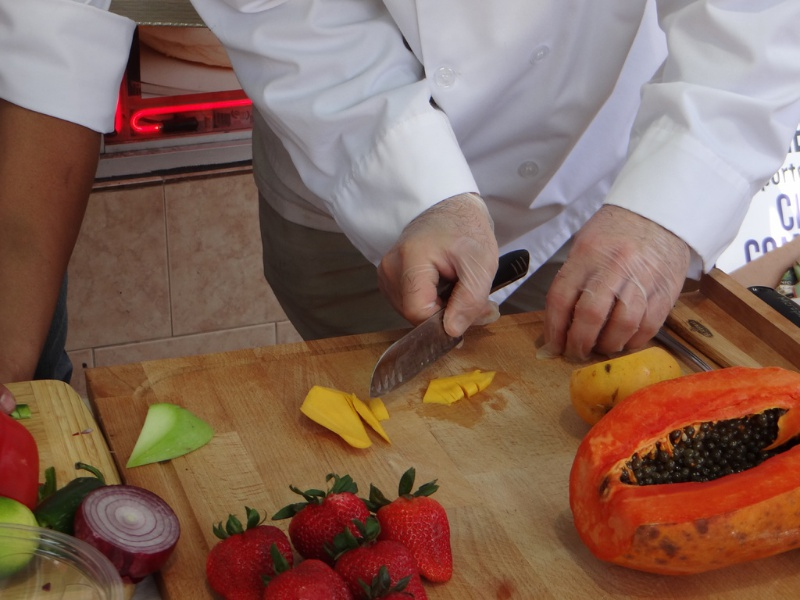knife: (368, 246, 531, 399)
